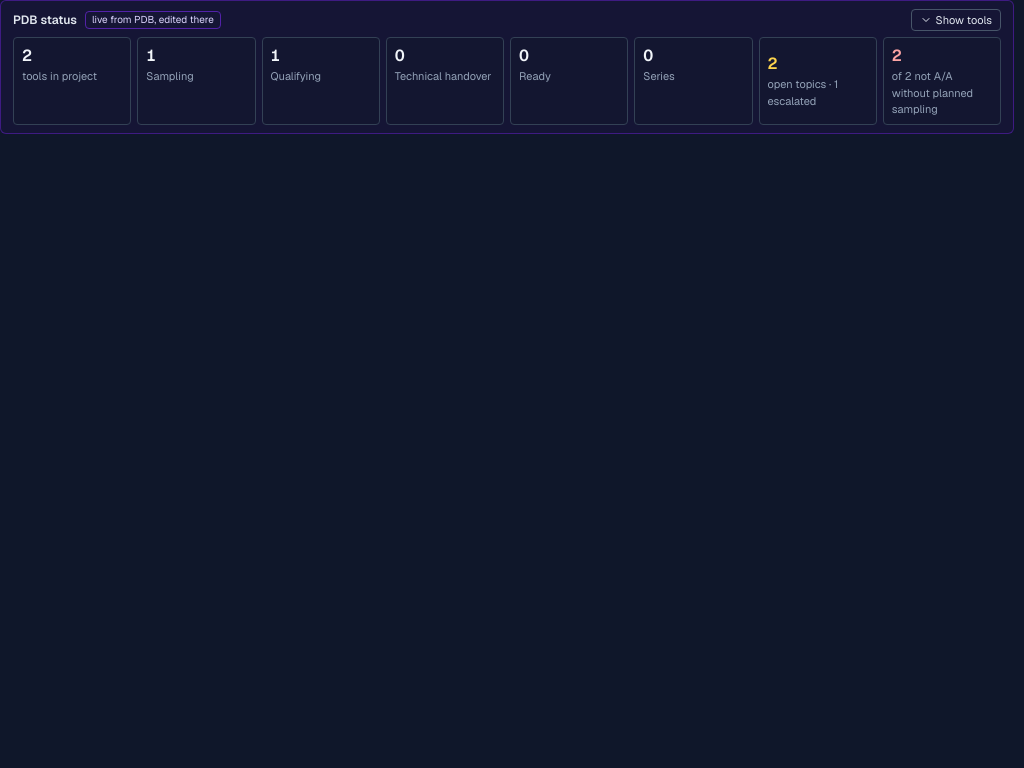
Test: PdbStatusBox › the topics number opens what is open; a tool number opens that tool only
Click the button with test id "pdb-step-topics": (818, 81) x1=758 y1=37 x2=877 y2=124
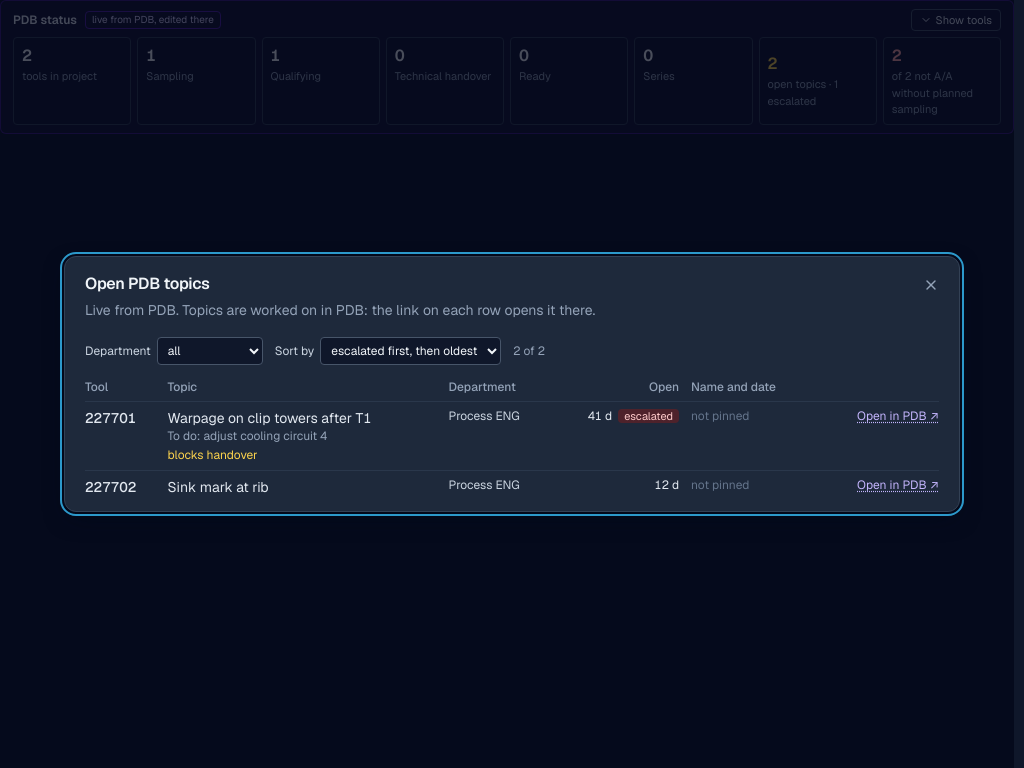
Expected: the number of rows with test id "pdb-topic-row" is 2, x1=85 y1=402 x2=939 y2=471; x1=85 y1=471 x2=939 y2=503
Expected: the row with test id "pdb-topic-row" shows "227701", x1=85 y1=409 x2=136 y2=427
Expected: the row with test id "pdb-topic-row" shows "Warpage on clip towers after T1", x1=167 y1=409 x2=372 y2=427
Click the button named "close": (931, 285) x1=915 y1=269 x2=947 y2=301
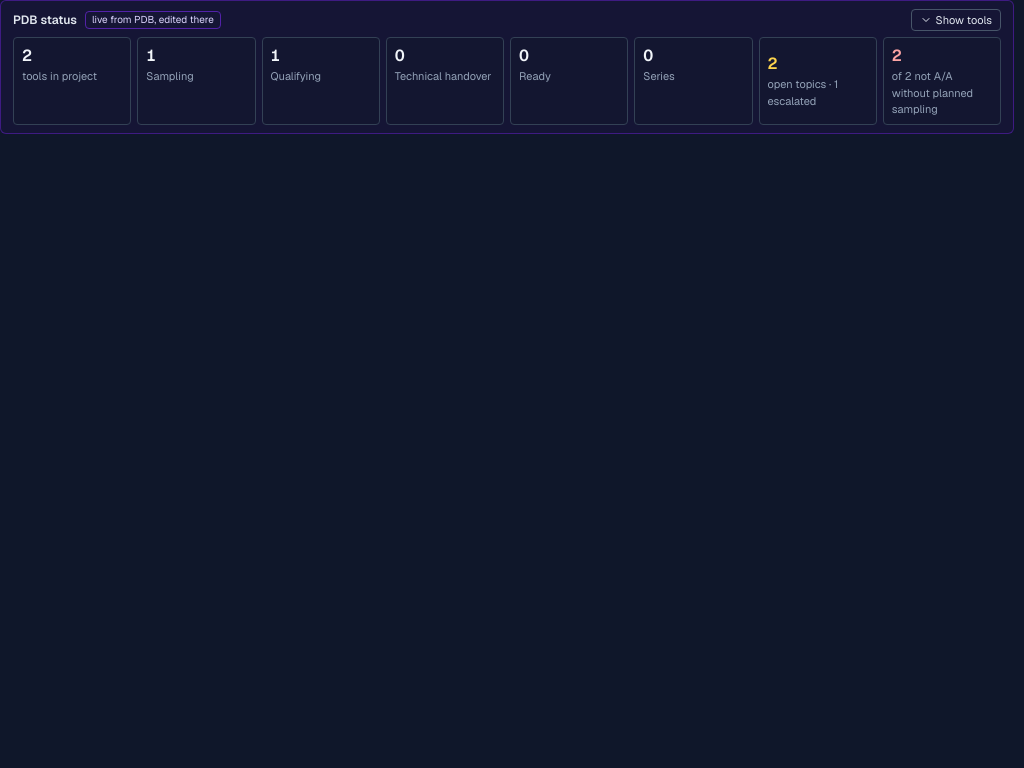
Click the button with test id "pdb-box-toggle": (956, 20) x1=911 y1=9 x2=1001 y2=31
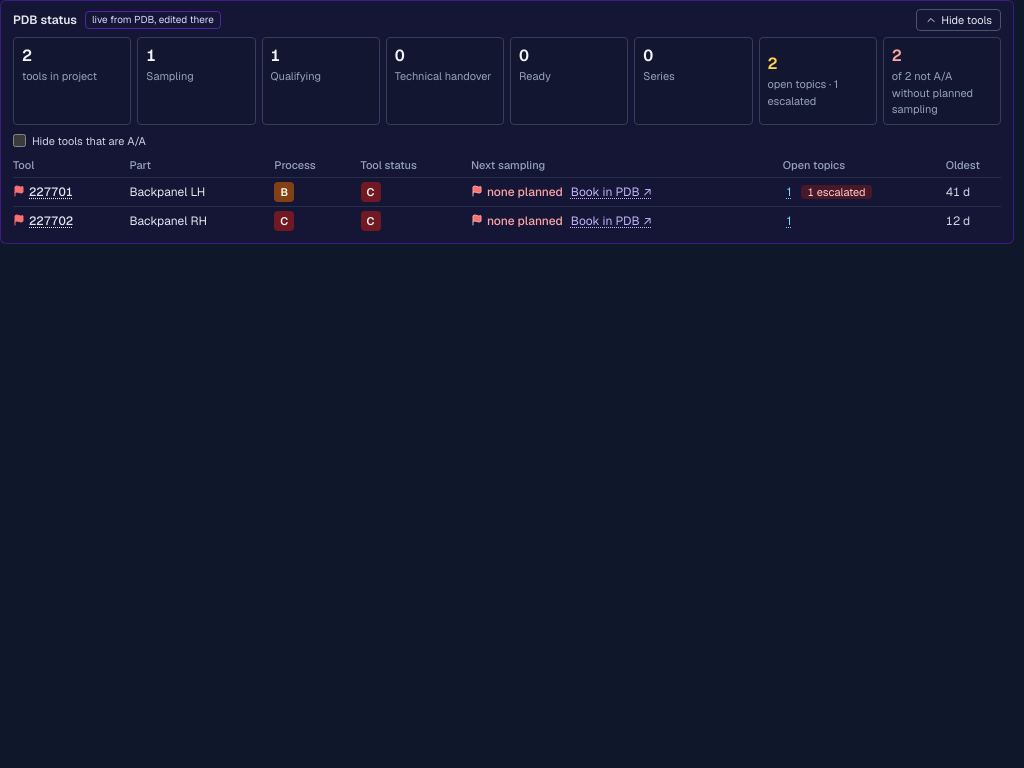
Click the button with test id "pdb-tool-topics" in the row of "227702": (789, 221) x1=783 y1=213 x2=795 y2=229
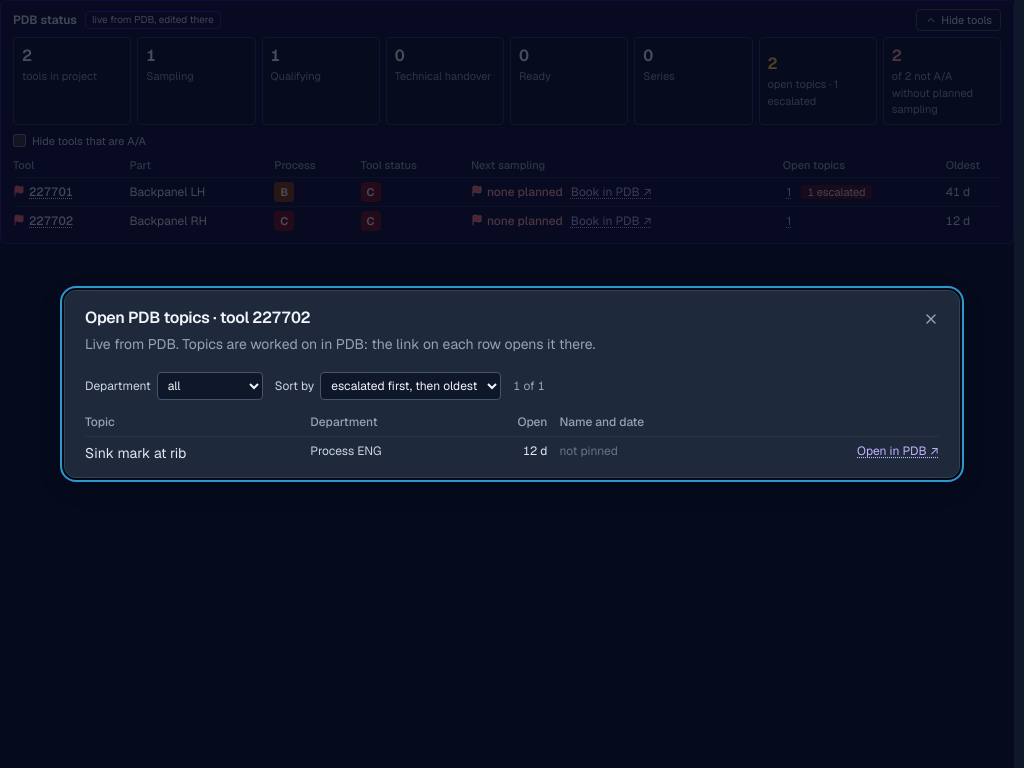
Expected: the number of rows with test id "pdb-topic-row" is 1, x1=85 y1=436 x2=939 y2=469
Expected: the row with test id "pdb-topic-row" shows "Sink mark at rib", x1=85 y1=444 x2=186 y2=462
Expected: the dialog with test id "pdb-topics-dialog" shows "tool 227702", x1=85 y1=307 x2=310 y2=328
